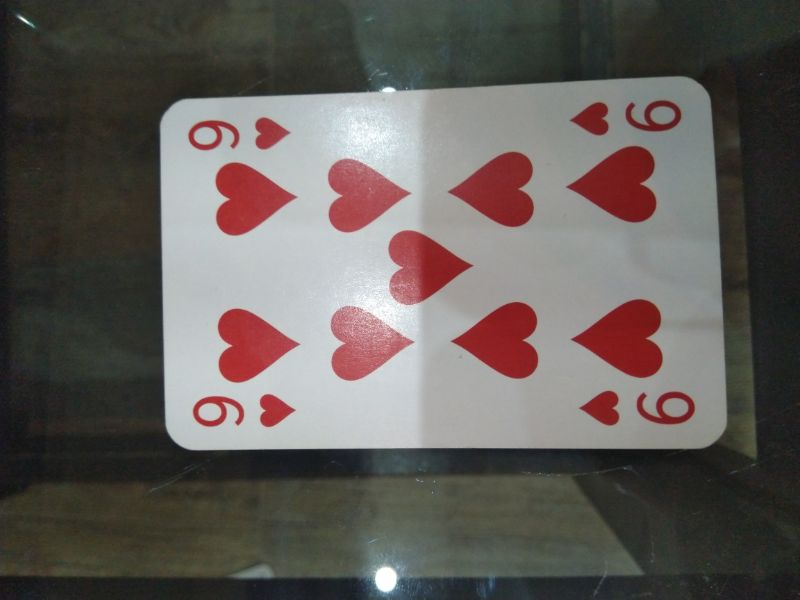9h: (575, 387, 701, 432), (566, 92, 685, 137), (188, 390, 304, 432), (183, 112, 297, 154)
